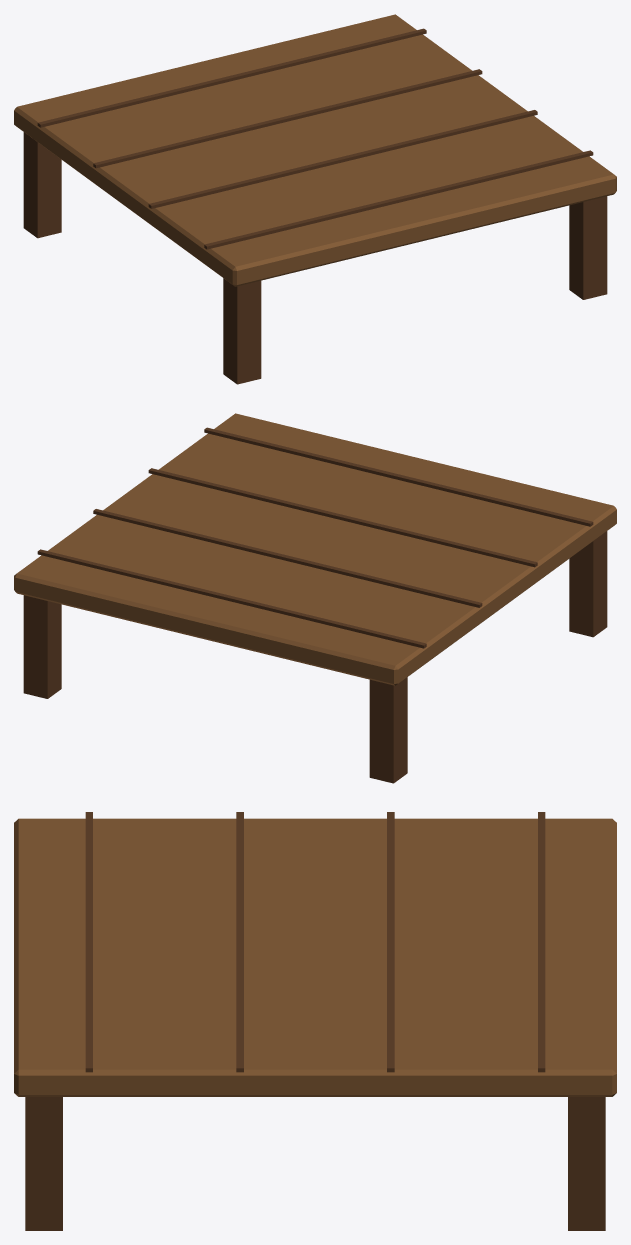
File: SM_Platform.fbx
The picture shows the model from 3 angles, top to bottom: view 1: azimuth 30°, elevation 25°; view 2: azimuth 150°, elevation 25°; view 3: azimuth 270°, elevation 25°; orthographic projection. The views are drawn at different scales.
Visible parts, largest first — view 1: SM_Platform_Deck, SM_Platform_Post11, SM_Platform_Post-11, SM_Platform_Post1-1, SM_Platform_Board3, SM_Platform_Board2, SM_Platform_Board0, SM_Platform_Board1; view 2: SM_Platform_Deck, SM_Platform_Post1-1, SM_Platform_Post-1-1, SM_Platform_Post11, SM_Platform_Board0, SM_Platform_Board1, SM_Platform_Board2, SM_Platform_Board3; view 3: SM_Platform_Deck, SM_Platform_Post-1-1, SM_Platform_Post-11, SM_Platform_Board1, SM_Platform_Board2, SM_Platform_Board0, SM_Platform_Board3.
Part boxes in pixels (<box>): SM_Platform_Deck: <box>14,14,616,286</box>; SM_Platform_Post11: <box>223,278,261,384</box>; SM_Platform_Post-11: <box>569,196,607,299</box>; SM_Platform_Post1-1: <box>23,132,61,238</box>; SM_Platform_Board3: <box>204,150,593,249</box>; SM_Platform_Board2: <box>148,110,537,208</box>; SM_Platform_Board0: <box>37,28,426,127</box>; SM_Platform_Board1: <box>93,69,482,168</box>; SM_Platform_Deck: <box>14,413,616,685</box>; SM_Platform_Post1-1: <box>369,677,407,783</box>; SM_Platform_Post-1-1: <box>23,595,61,698</box>; SM_Platform_Post11: <box>569,531,607,637</box>; SM_Platform_Board0: <box>37,549,426,648</box>; SM_Platform_Board1: <box>93,509,482,607</box>; SM_Platform_Board2: <box>148,468,537,567</box>; SM_Platform_Board3: <box>204,427,593,526</box>; SM_Platform_Deck: <box>14,818,616,1096</box>; SM_Platform_Post-1-1: <box>568,1097,605,1230</box>; SM_Platform_Post-11: <box>25,1097,62,1230</box>; SM_Platform_Board1: <box>387,812,394,1072</box>; SM_Platform_Board2: <box>236,812,243,1072</box>; SM_Platform_Board0: <box>538,812,545,1072</box>; SM_Platform_Board3: <box>85,812,92,1072</box>.
Size of the model in its own units: 4.02 by 4 by 1.23.
